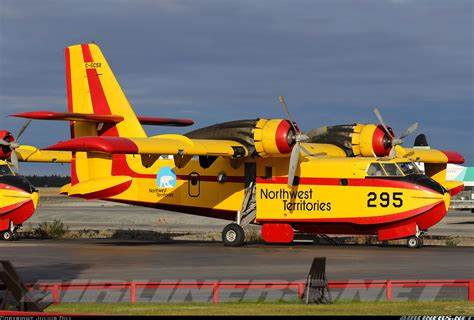Aeronef_de_service: (5, 38, 470, 258), (1, 116, 41, 249)
